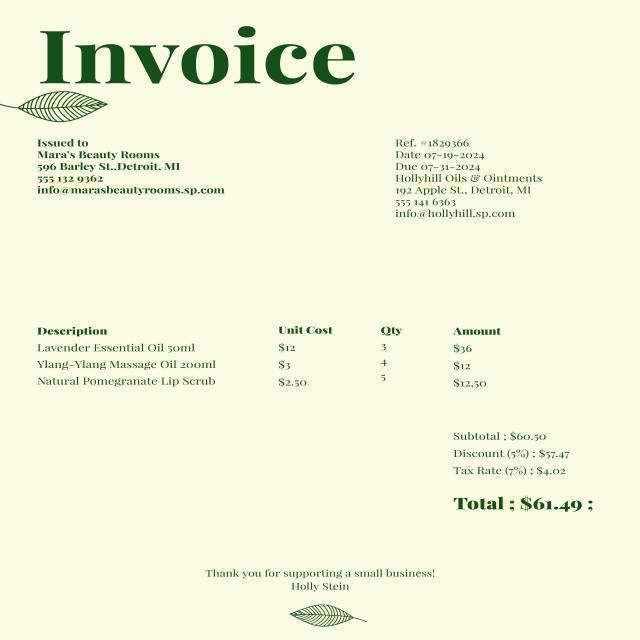paragraph: (34, 21, 361, 89), (447, 424, 605, 518), (390, 131, 548, 223), (33, 135, 230, 198), (199, 562, 445, 595)
table: (30, 319, 510, 398)
